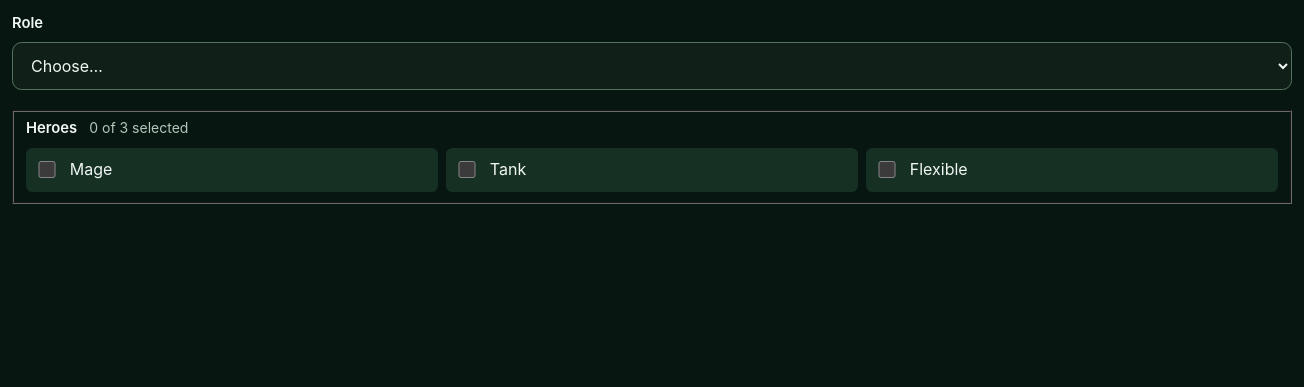
Test: filters after an explicit role choice and explains incompatible choices removed on role change
This screenshot has width=1304, height=387.
Select "Mid lane" in the dropdown labelled "Role" at (652,66), box [12, 42, 1292, 90]
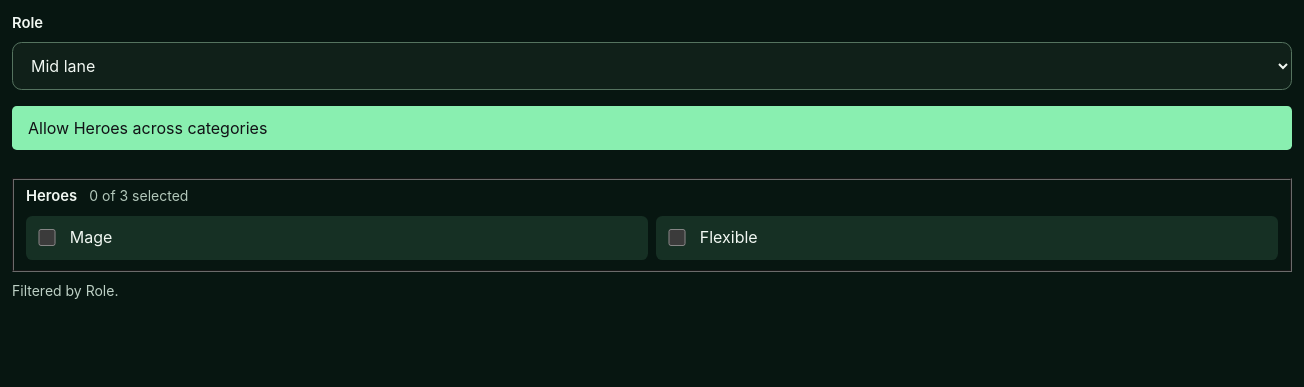
Check: the label labelled "Tank" is gone
Click the checkbox labelled "Mage" at (47,238), box [38, 229, 56, 246]
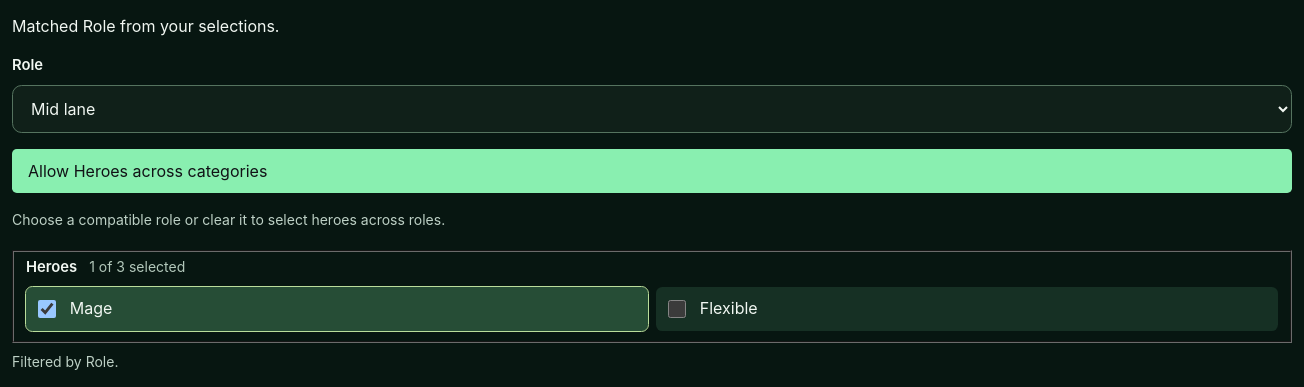
Select "Roaming" in the dropdown labelled "Role" at (652,109), box [12, 85, 1292, 133]
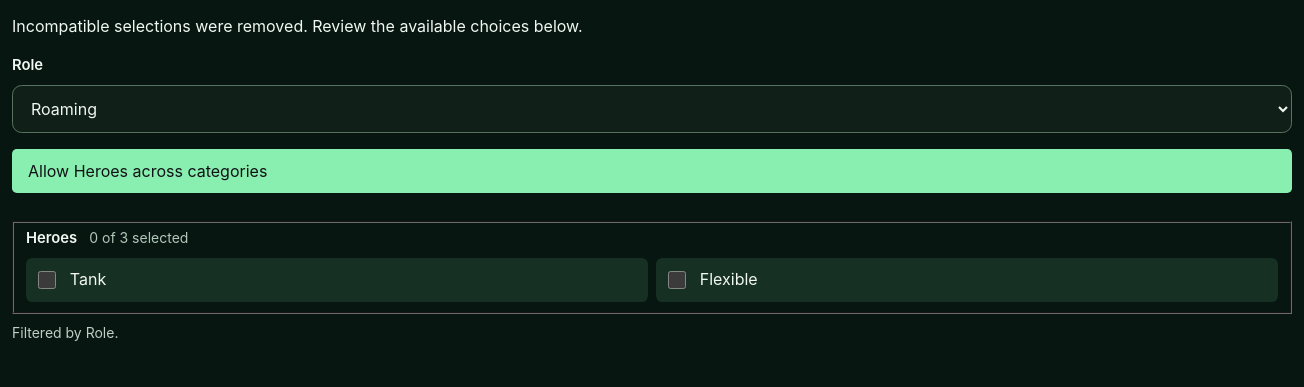
Check: the label labelled "Mage" is gone
Check: the checkbox labelled "Tank" is not checked, box [38, 271, 56, 289]
Check: the message shows "Incompatible selections were removed", box [12, 16, 583, 36]
